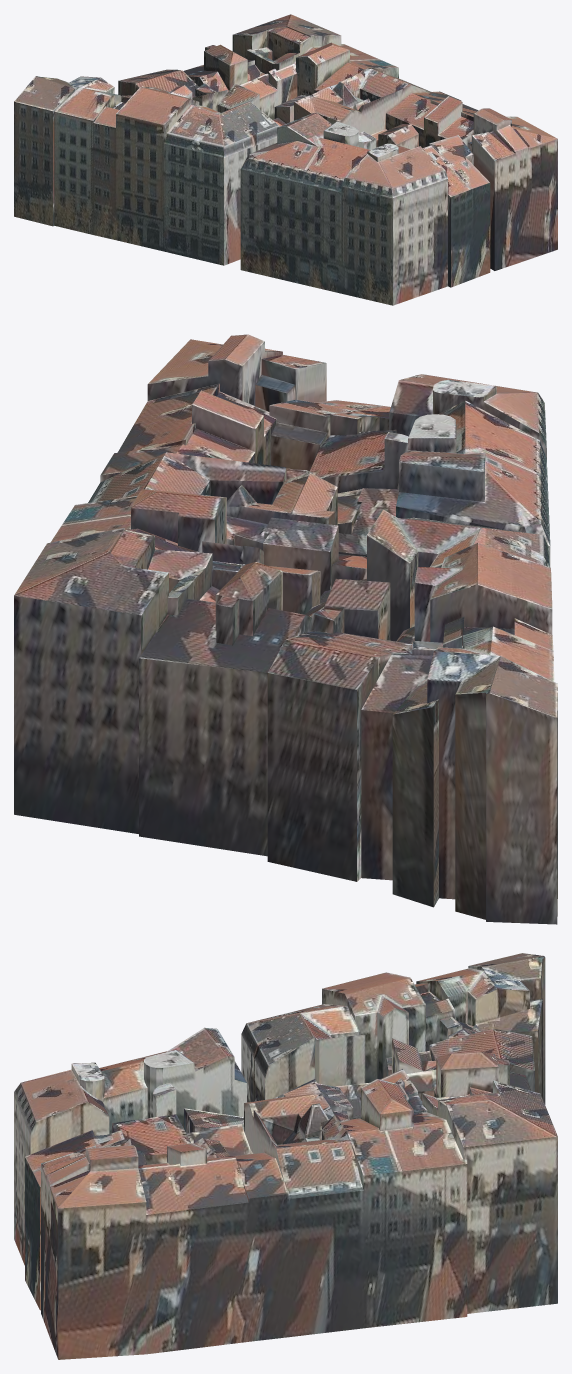
File: LYON_1ER_00162.dae
The picture shows the model from 3 angles, top to bottom: view 1: azimuth 30°, elevation 25°; view 2: azimuth 150°, elevation 25°; view 3: azimuth 270°, elevation 25°; orthographic projection. The views are drawn at different scales.
Size of the model in its own units: 84.62 by 77.92 by 30.32.
2 materials, 2 textured.
